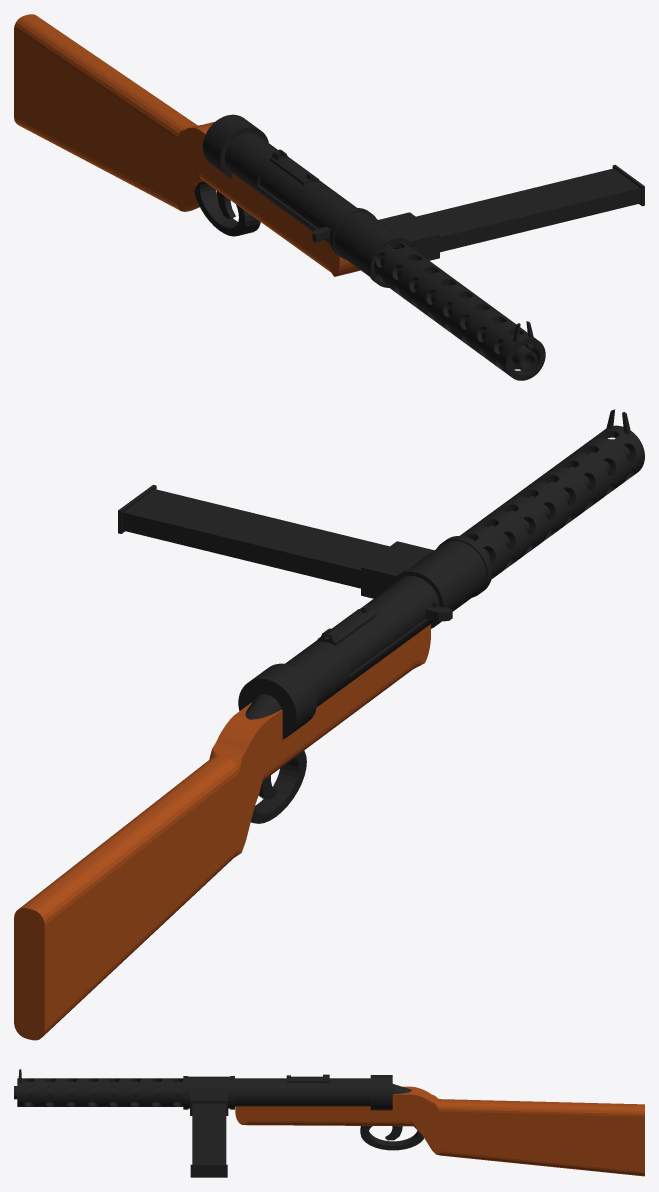
Rendered from gun1930.fbx.
3 views of the same model, one above another, from view 1: azimuth 30°, elevation 25°; view 2: azimuth 150°, elevation 25°; view 3: azimuth 270°, elevation 25° (orthographic). The views are drawn at different scales.
Visible parts, largest first — view 1: Cube.004; view 2: Cube.004; view 3: Cube.004.
Part boxes in pixels (bbox=[...]): Cube.004: bbox=[14, 14, 644, 380]; Cube.004: bbox=[14, 409, 644, 1040]; Cube.004: bbox=[14, 1069, 644, 1177].
Bounding box in the file's own units: 324 × 176 × 966.
